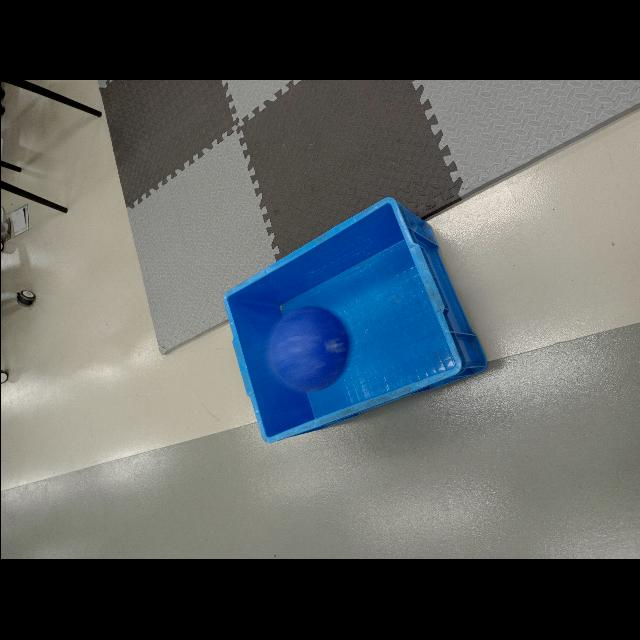B: (265, 308, 347, 392)
